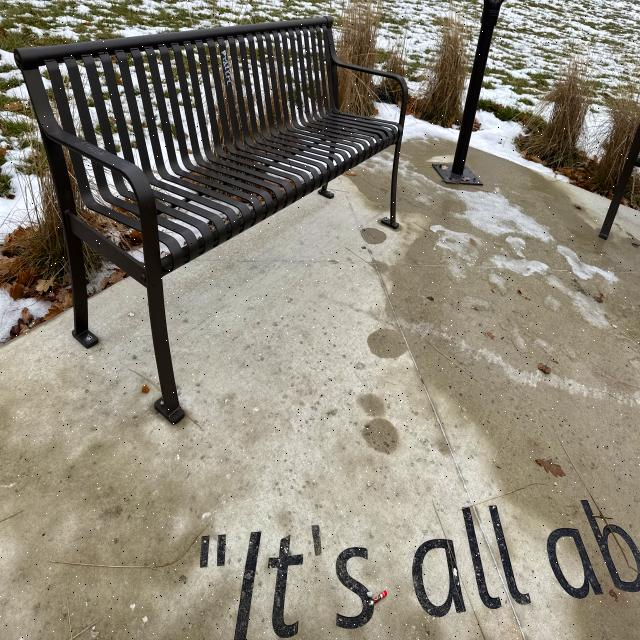Bench: (11, 29, 425, 406)
